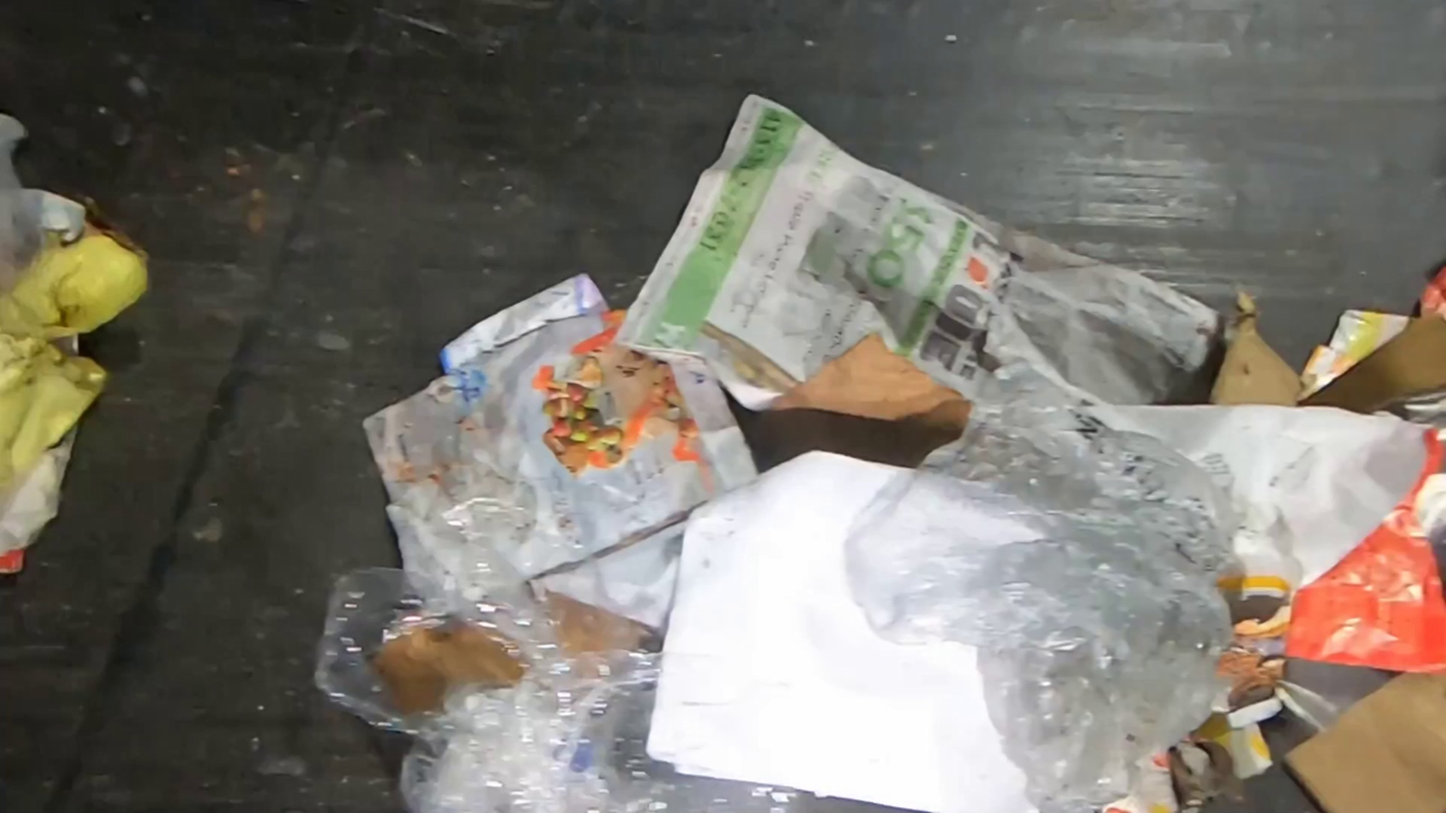cardboard: (745, 330, 968, 472), (1282, 670, 1446, 813), (1299, 301, 1446, 427), (1207, 282, 1304, 407)
plastic: (316, 495, 927, 812), (842, 357, 1228, 813)
